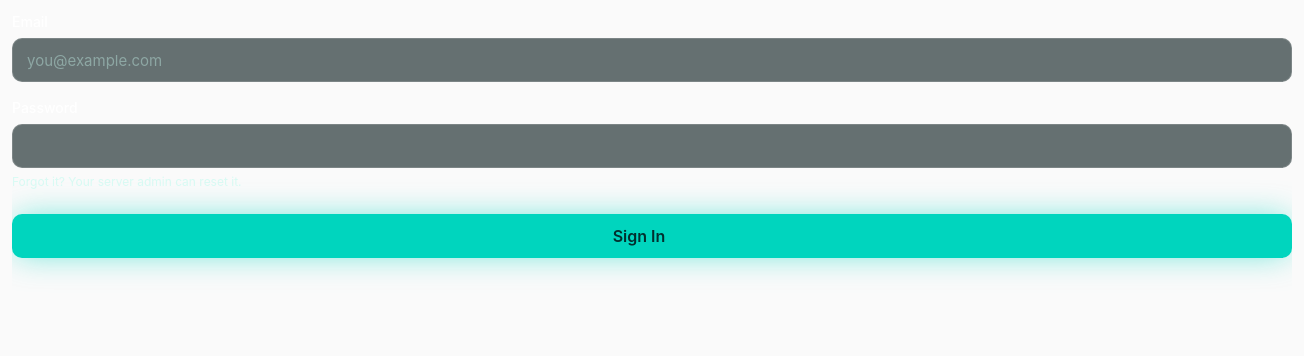
Test case: Login › rejects an empty password
Type "alice@example.com" into the field labelled "Email" at (652, 60), box [12, 38, 1292, 82]
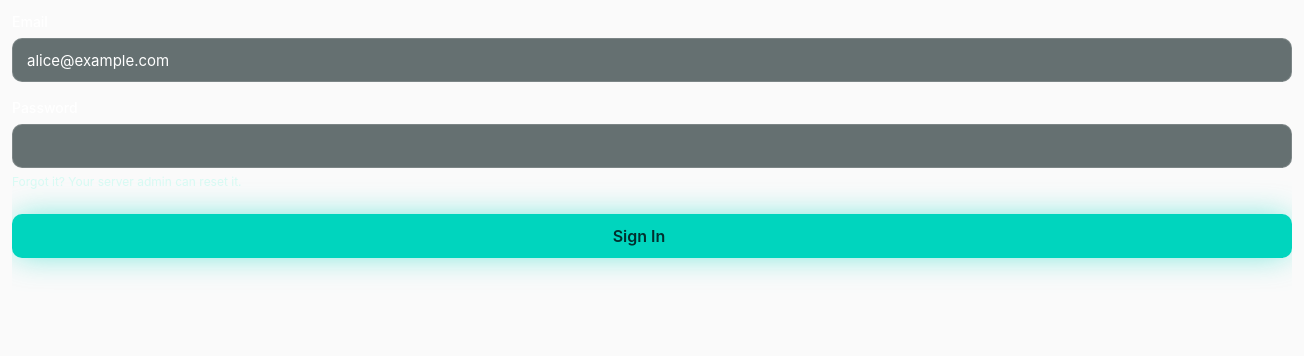
Click the button "Sign In" at (652, 236), box [12, 214, 1292, 258]
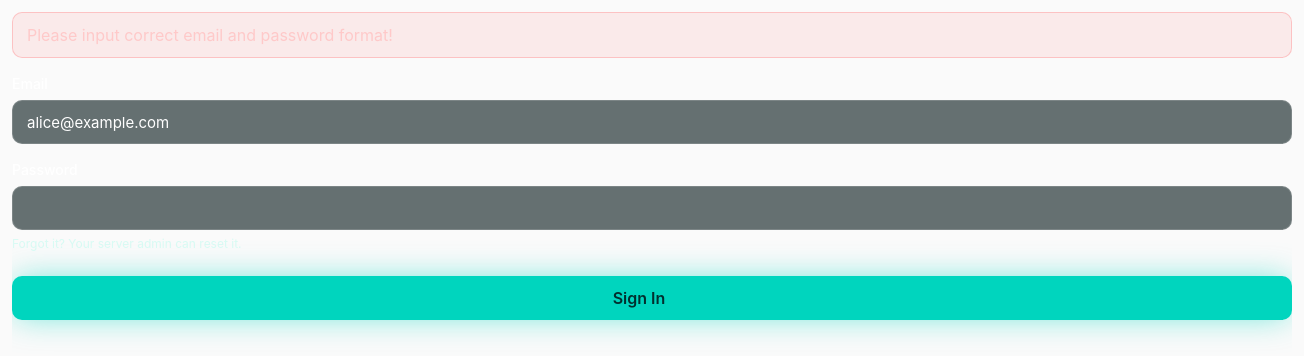
Now the form shows "Please input correct email and password format!", box [27, 25, 393, 45]
